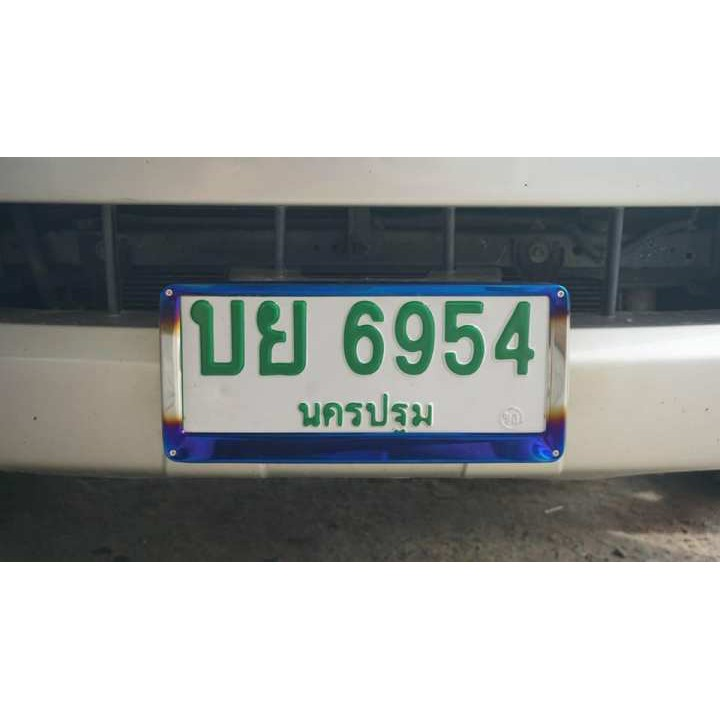Non-Bangkok: (279, 386, 444, 444)
